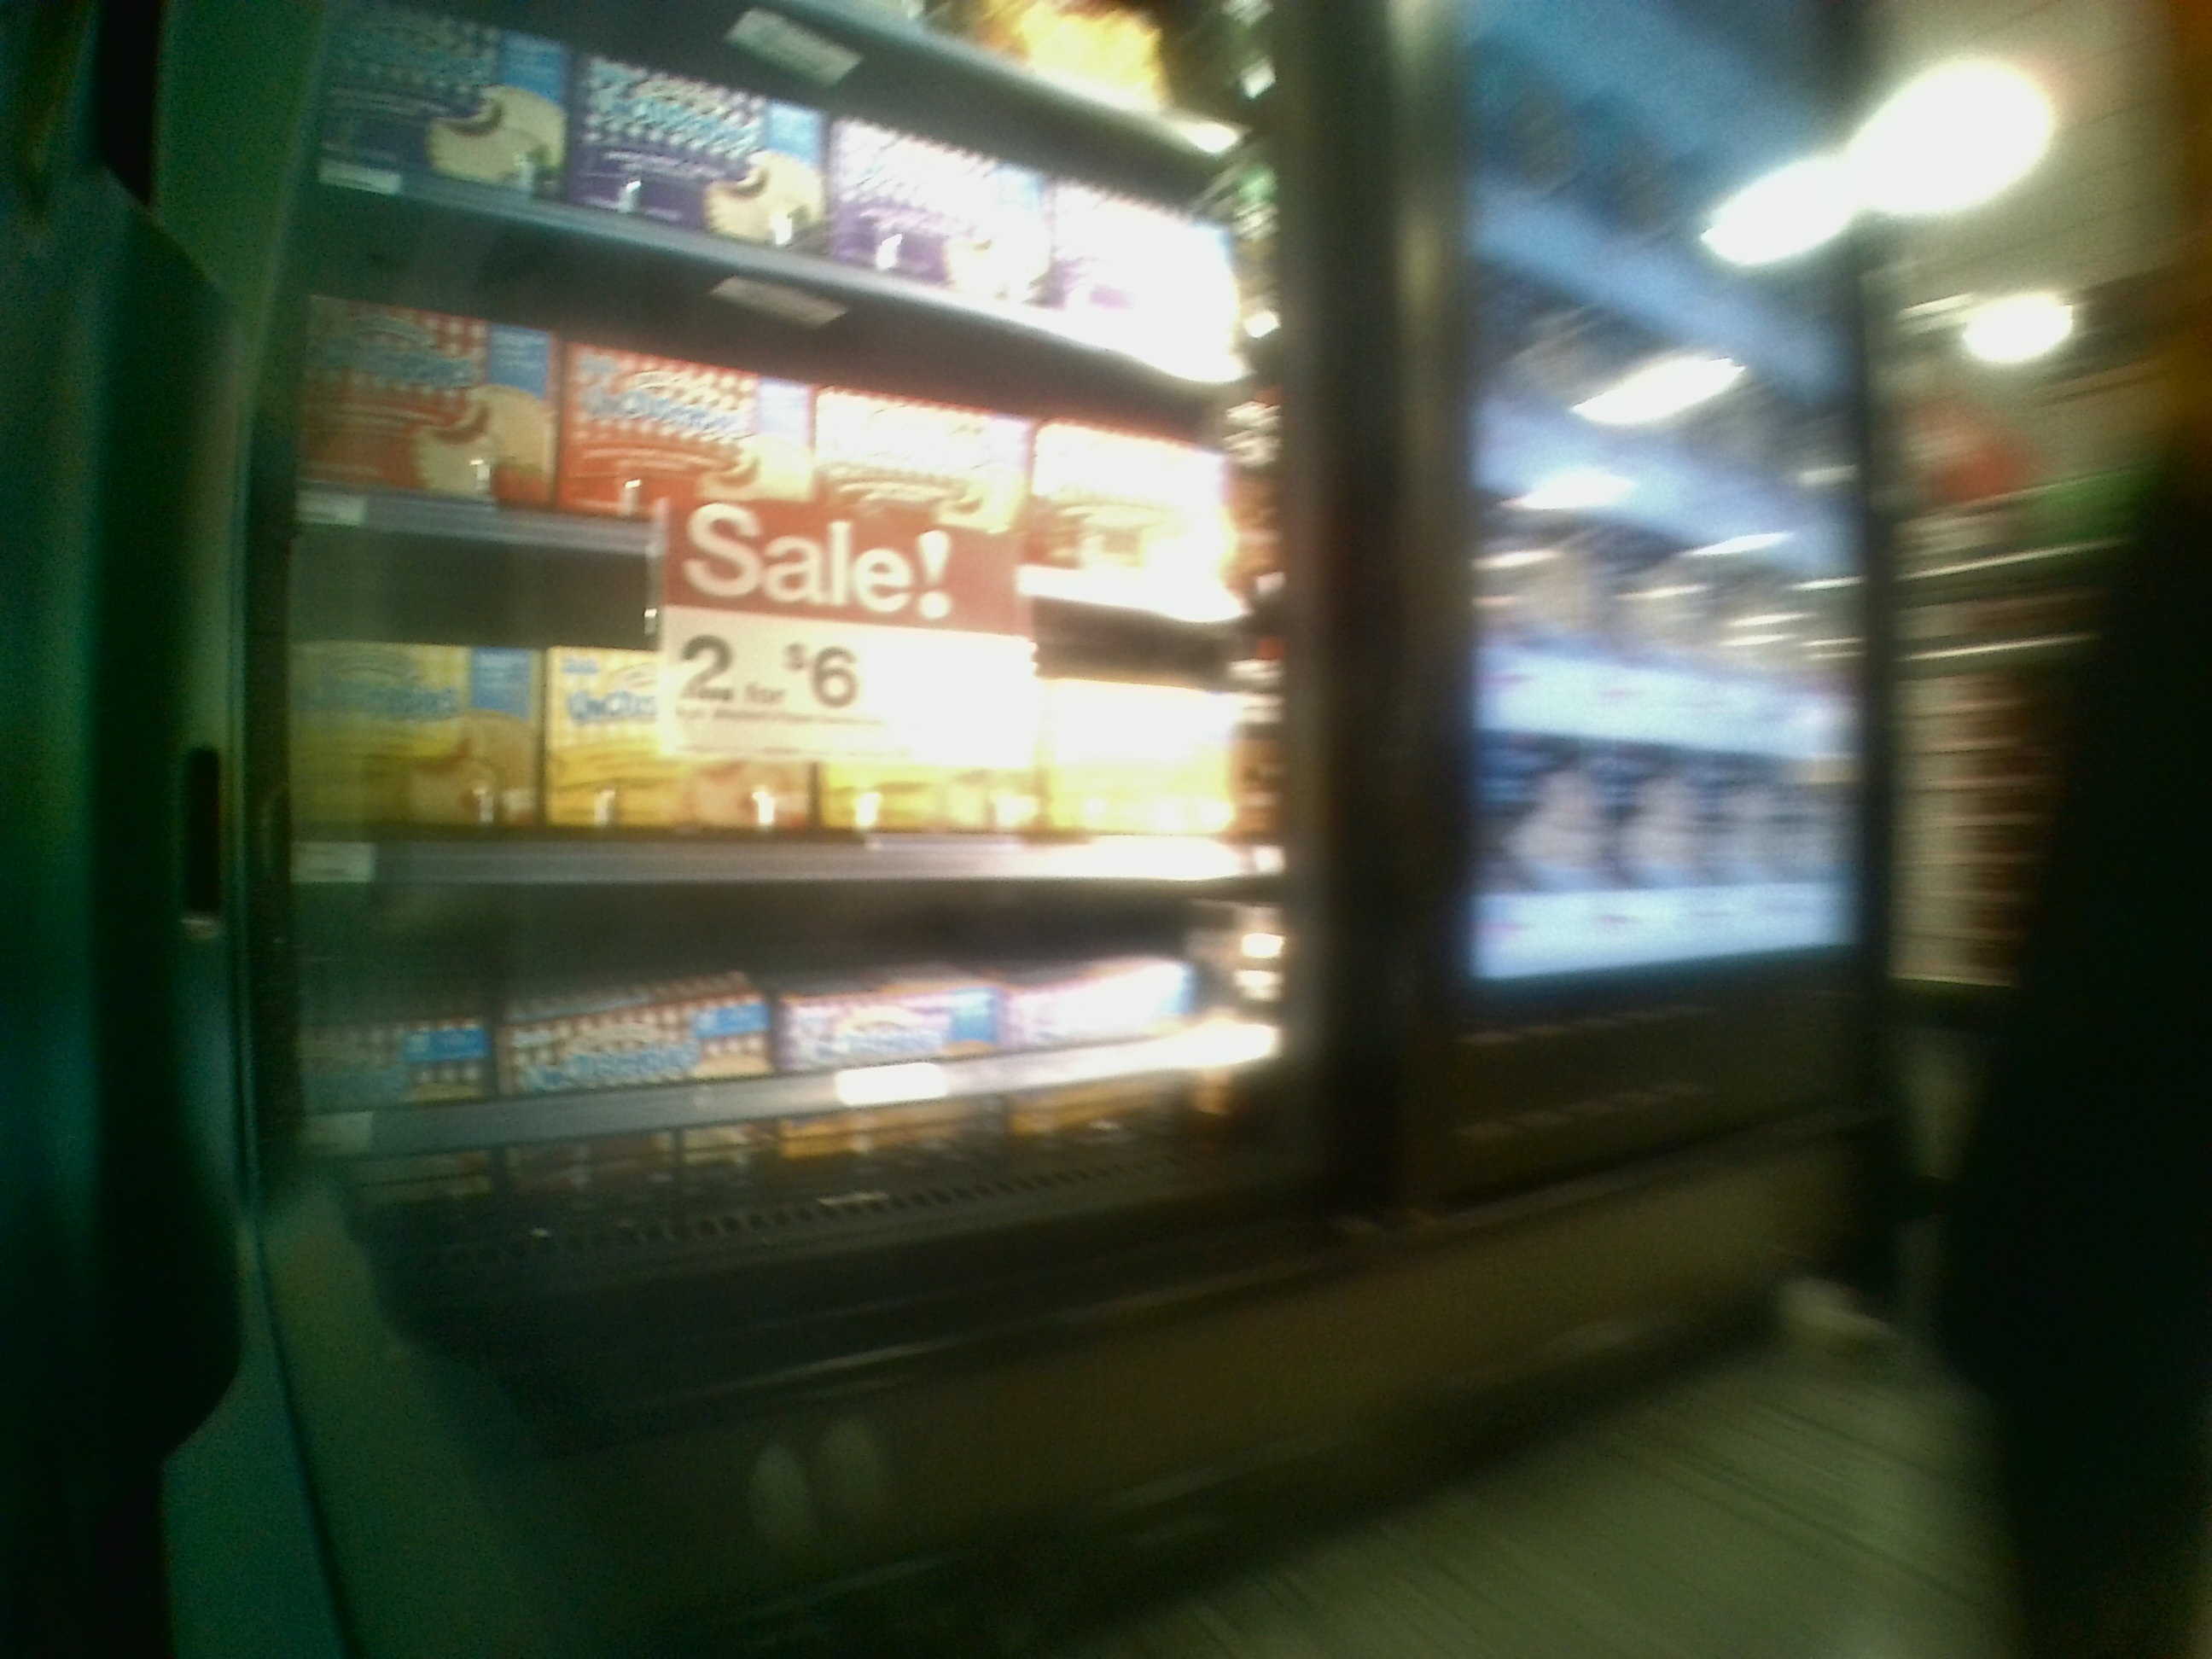shelf: (312, 272, 1233, 610), (308, 542, 1251, 870), (294, 866, 1271, 1068)
